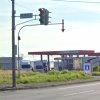traffic lights: (38, 8, 48, 26)
